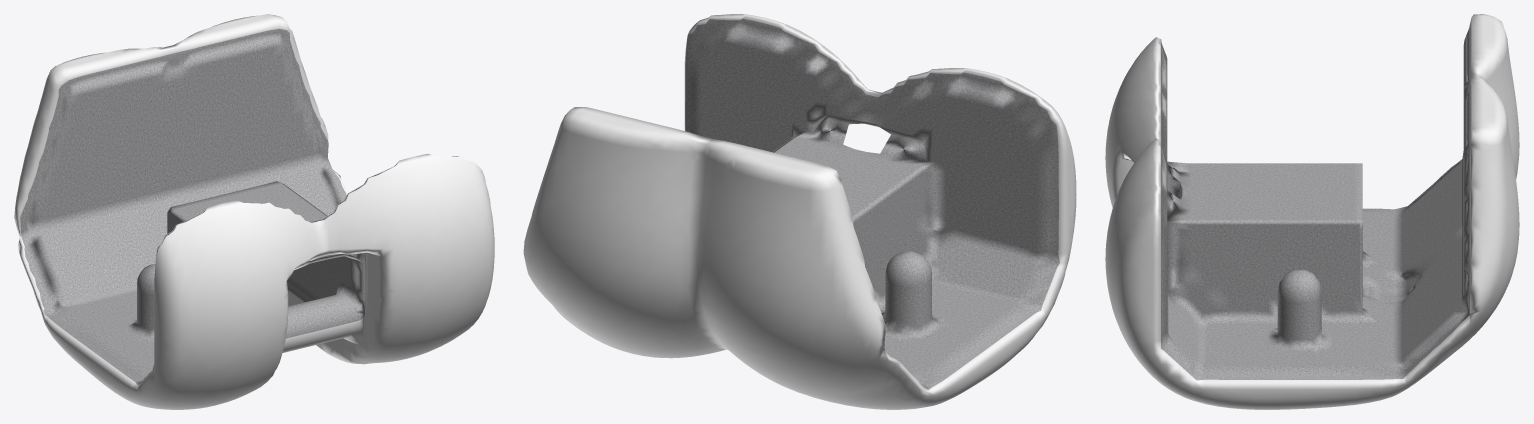
Rendered from femoral_mirai_lod1.glb.
3 renders of one model, left to right at view 1: azimuth 30°, elevation 25°; view 2: azimuth 150°, elevation 25°; view 3: azimuth 270°, elevation 25°, orthographic. The views are drawn at different scales.
Visible parts, largest first — view 1: femoral_mirai; view 2: femoral_mirai; view 3: femoral_mirai.
Part boxes in pixels (box(x1,y1,x2,y2)): femoral_mirai: box(14, 14, 494, 409); femoral_mirai: box(523, 14, 1076, 409); femoral_mirai: box(1105, 14, 1519, 409).
Size of the model in its own units: 0.066 by 0.0473 by 0.0657.
2 materials, 1 textured.
